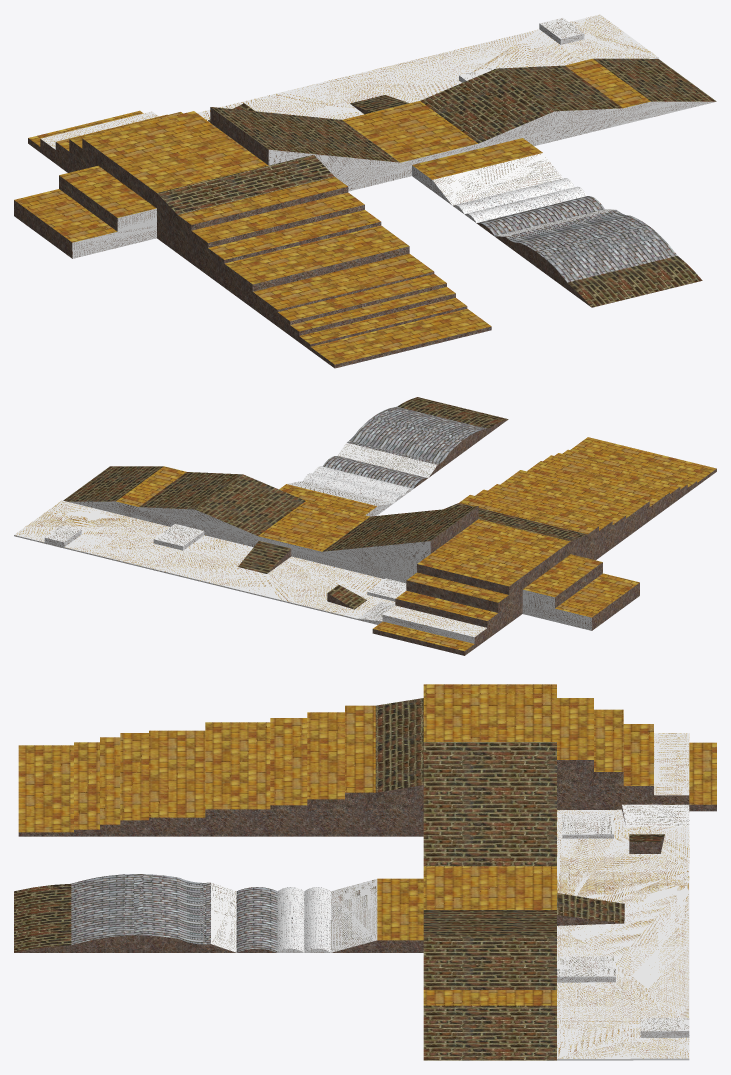
The model's file is slopes_and_stairs.dae.
The picture shows the model from 3 angles, top to bottom: view 1: azimuth 30°, elevation 25°; view 2: azimuth 150°, elevation 25°; view 3: azimuth 270°, elevation 25°; orthographic projection. The views are drawn at different scales.
Visible parts, largest first — view 1: SketchUp (×28); view 2: SketchUp (×35); view 3: SketchUp (×36).
Part boxes in pixels (left/top/right/bottom): SketchUp (×28): left=14, top=14, right=716, bottom=368; SketchUp (×35): left=14, top=397, right=716, bottom=655; SketchUp (×36): left=14, top=684, right=716, bottom=1060.
Size of the model in its own units: 361 by 299 by 32.82.
Materials: 5 (4 with a texture image).
